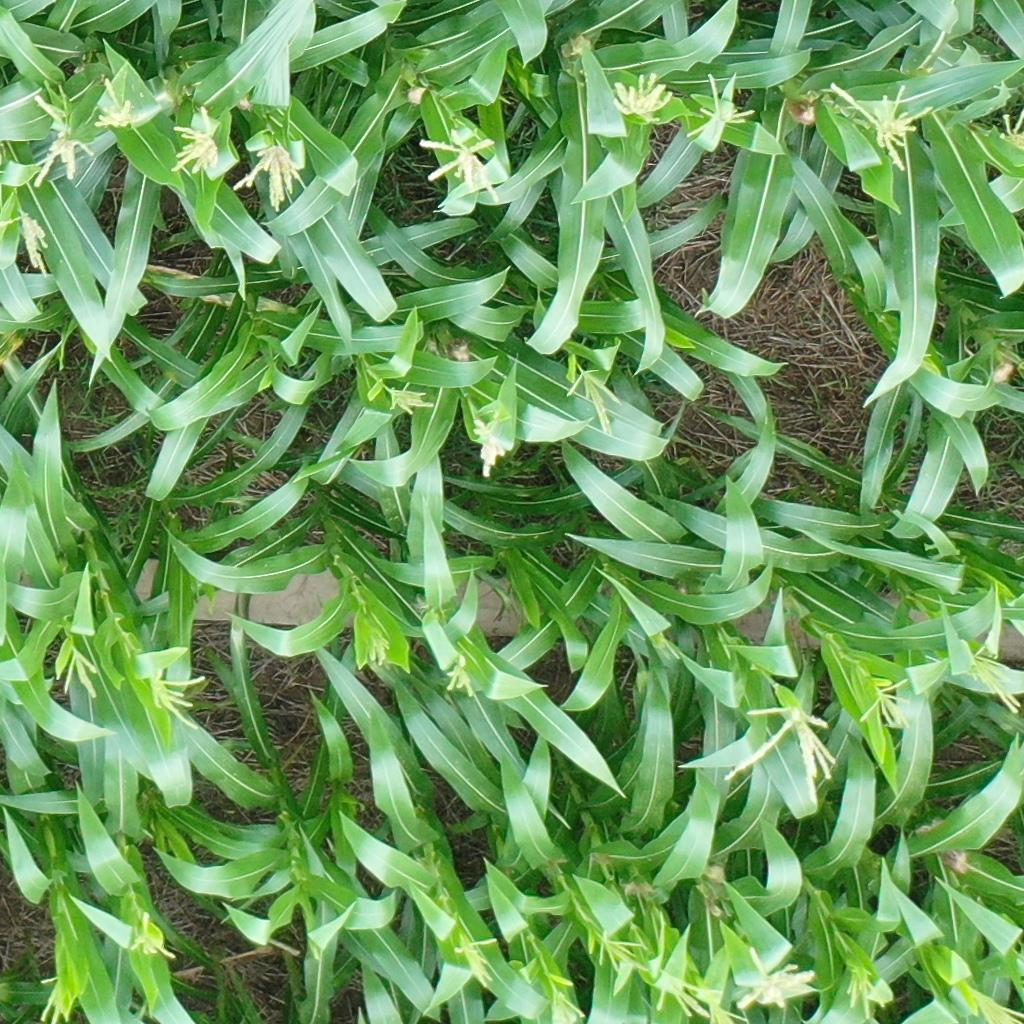Tassel: (830, 78, 932, 172), (721, 707, 839, 781), (418, 131, 504, 206), (32, 95, 95, 188), (234, 144, 313, 213), (738, 944, 816, 1012), (683, 74, 755, 137), (566, 369, 620, 437), (966, 648, 1021, 714), (170, 106, 222, 175), (149, 670, 207, 731), (1, 213, 53, 280), (656, 967, 723, 1018), (611, 73, 674, 124), (857, 679, 915, 730), (453, 930, 501, 989), (469, 417, 511, 480), (129, 912, 178, 960), (845, 964, 886, 1020), (967, 985, 1024, 1024), (93, 76, 134, 129), (595, 933, 645, 972), (64, 651, 101, 703), (388, 383, 436, 416), (445, 657, 477, 698), (41, 976, 68, 1024), (998, 106, 1024, 151), (362, 635, 395, 669), (550, 991, 587, 1021), (708, 998, 750, 1024)
